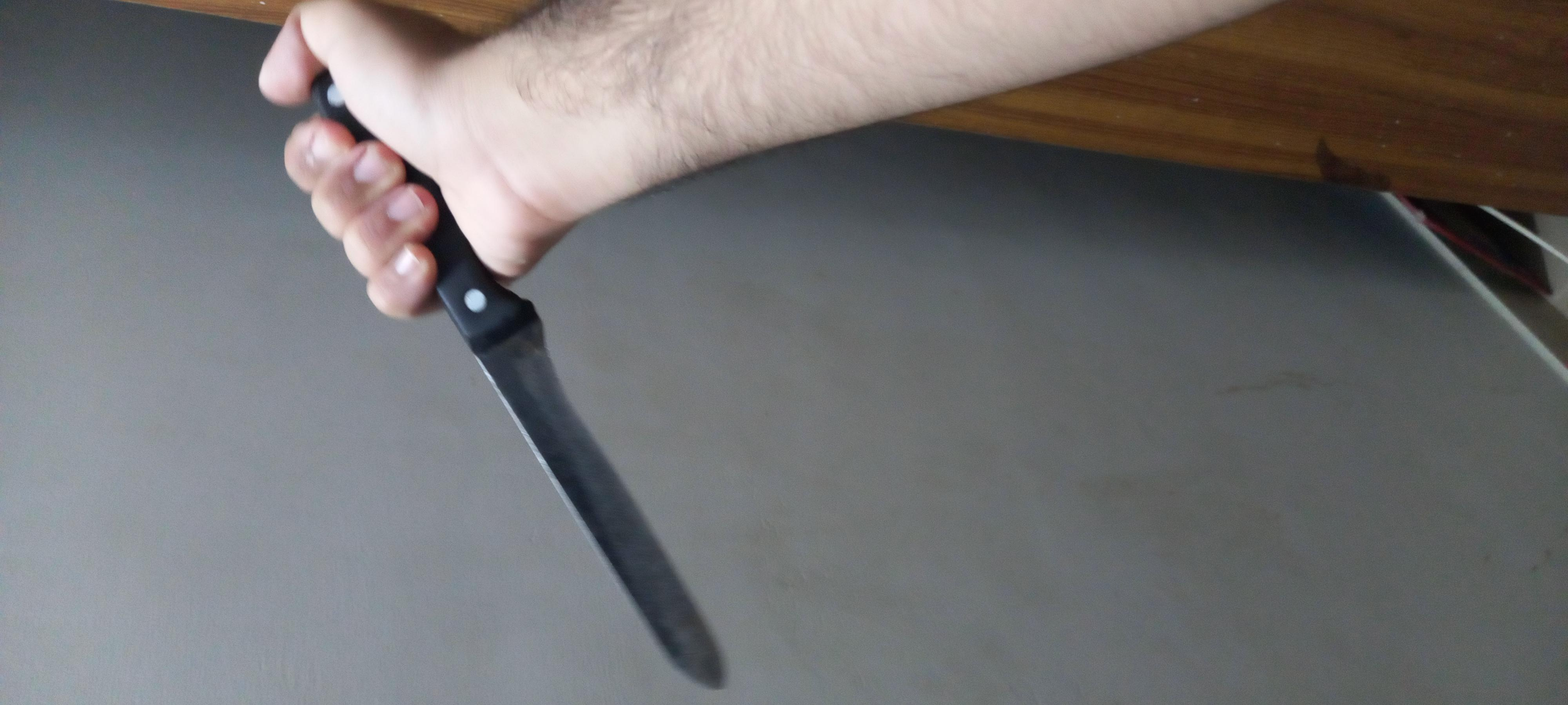knives: (3, 84, 1235, 338)
